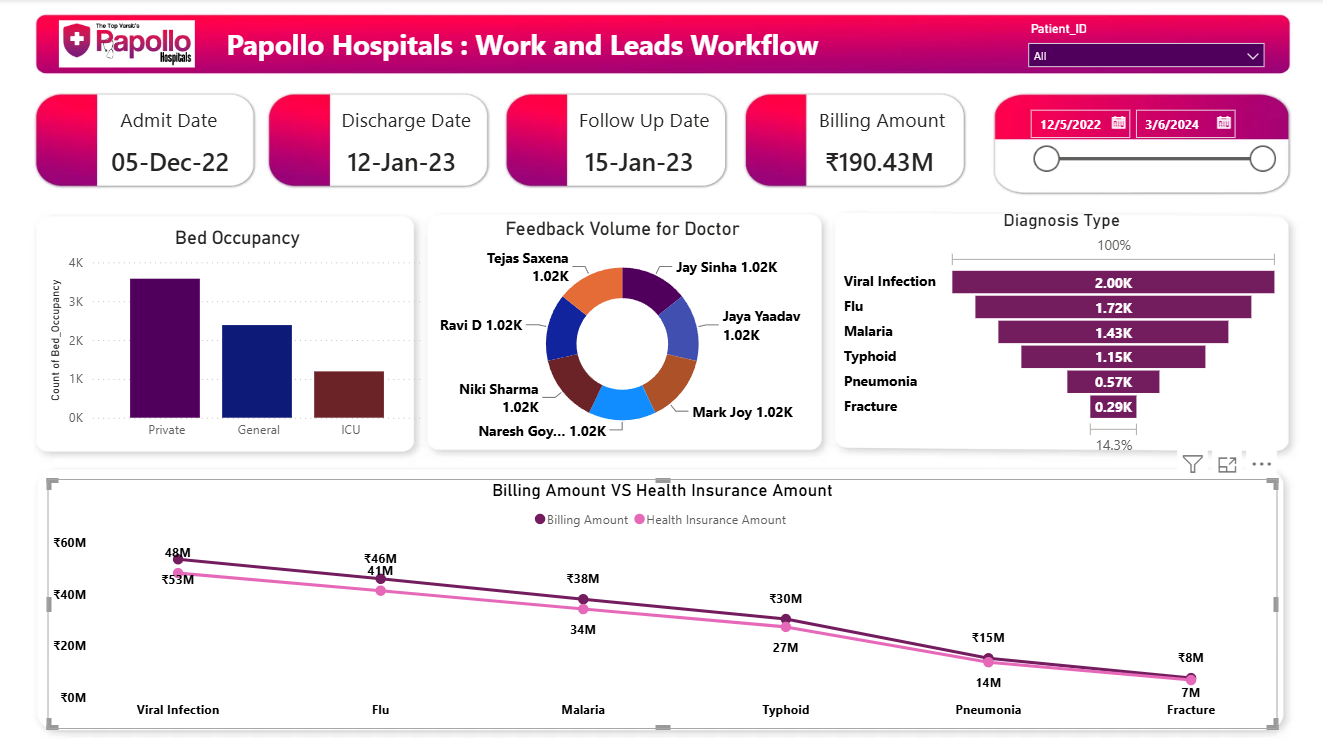

What the dashboard file says about the page in this screenshot:
{"tool":"powerbi","page":{"name":"heathcare","canvas":[1280,720],"ordinal":0},"visuals":[{"type":"image","box":[9.7,20.5,225.6,45.8],"z":0},{"type":"textbox","box":[213.5,20.5,596,61.5],"z":1000},{"type":"slicer","fields":{"Values":["Sheet1.Patient_ID"]},"box":[982.5,16.5,248.4,54.9],"z":2000},{"type":"cardVisual","fields":{"Data":["Min(Sheet1.Admit_Date)"]},"box":[78.4,126.7,182.2,57.9],"z":2001},{"type":"textbox","box":[111,98.9,118.2,36.2],"z":2002},{"type":"textbox","box":[324.5,98.9,147.2,36.2],"z":2003},{"type":"cardVisual","fields":{"Data":["Min(Sheet1.Discharge_Date)"]},"box":[306.4,126.7,182.2,57.9],"z":2004},{"type":"textbox","box":[553.8,98.9,147.2,36.2],"z":2005},{"type":"cardVisual","fields":{"Data":["Min(Sheet1.Followup Date)"]},"box":[535.7,126.7,182.2,57.9],"z":2006},{"type":"textbox","box":[785.4,98.9,147.2,36.2],"z":2007},{"type":"cardVisual","fields":{"Data":["Sum(Sheet1.Billing Amount)"]},"box":[767.3,126.7,182.2,57.9],"z":2008},{"type":"slicer","fields":{"Values":["Sheet1.Admit_Date"]},"box":[982,96.5,258.2,76],"z":2009},{"type":"columnChart","title":"Bed Occupancy","fields":{"Category":["Sheet1.Bed_Occupancy"],"Y":["CountNonNull(Sheet1.Bed_Occupancy)"]},"box":[43.4,219.6,371.6,214.7],"z":2010},{"type":"donutChart","title":"Feedback Volume for Doctor","fields":{"Category":["Sheet1.Doctor"],"Y":["CountNonNull(Sheet1.Doctor)"]},"box":[415,211.1,371.6,223.2],"z":2011},{"type":"funnel","title":"Diagnosis Type","fields":{"Category":["Sheet1.Diagnosis"],"Y":["CountNonNull(Sheet1.Diagnosis)"]},"box":[809.5,202.7,430.7,242.5],"z":2012},{"type":"lineChart","title":"Billing Amount VS Health Insurance Amount","fields":{"Y":["Sum(Sheet1.Billing Amount)","Sum(Sheet1.Health Insurance Amount)"],"Category":["Sheet1.Diagnosis"]},"box":[45.8,463.3,1187.1,241.3],"z":2013}]}

Visuals, with their boxes in screenshot pixels (x1, y1, x2, y2), scaled from the page's 1280x720 canvas onto the 1323x743 screenshot:
image: left=10, top=21, right=243, bottom=68
textbox: left=221, top=21, right=837, bottom=85
slicer - Sheet1.Patient_ID: left=1016, top=17, right=1272, bottom=74
cardVisual - Min(Sheet1.Admit_Date): left=81, top=131, right=269, bottom=190
textbox: left=115, top=102, right=237, bottom=139
textbox: left=335, top=102, right=488, bottom=139
cardVisual - Min(Sheet1.Discharge_Date): left=317, top=131, right=505, bottom=190
textbox: left=572, top=102, right=725, bottom=139
cardVisual - Min(Sheet1.Followup Date): left=554, top=131, right=742, bottom=190
textbox: left=812, top=102, right=964, bottom=139
cardVisual - Sum(Sheet1.Billing Amount): left=793, top=131, right=981, bottom=190
slicer - Sheet1.Admit_Date: left=1015, top=100, right=1282, bottom=178
"Bed Occupancy" columnChart: left=45, top=227, right=429, bottom=448
"Feedback Volume for Doctor" donutChart: left=429, top=218, right=813, bottom=448
"Diagnosis Type" funnel: left=837, top=209, right=1282, bottom=459
"Billing Amount VS Health Insurance Amount" lineChart: left=47, top=478, right=1274, bottom=727
